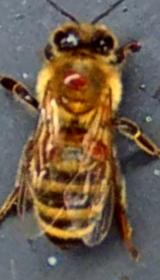varroa_mite: (58, 67, 98, 94)
